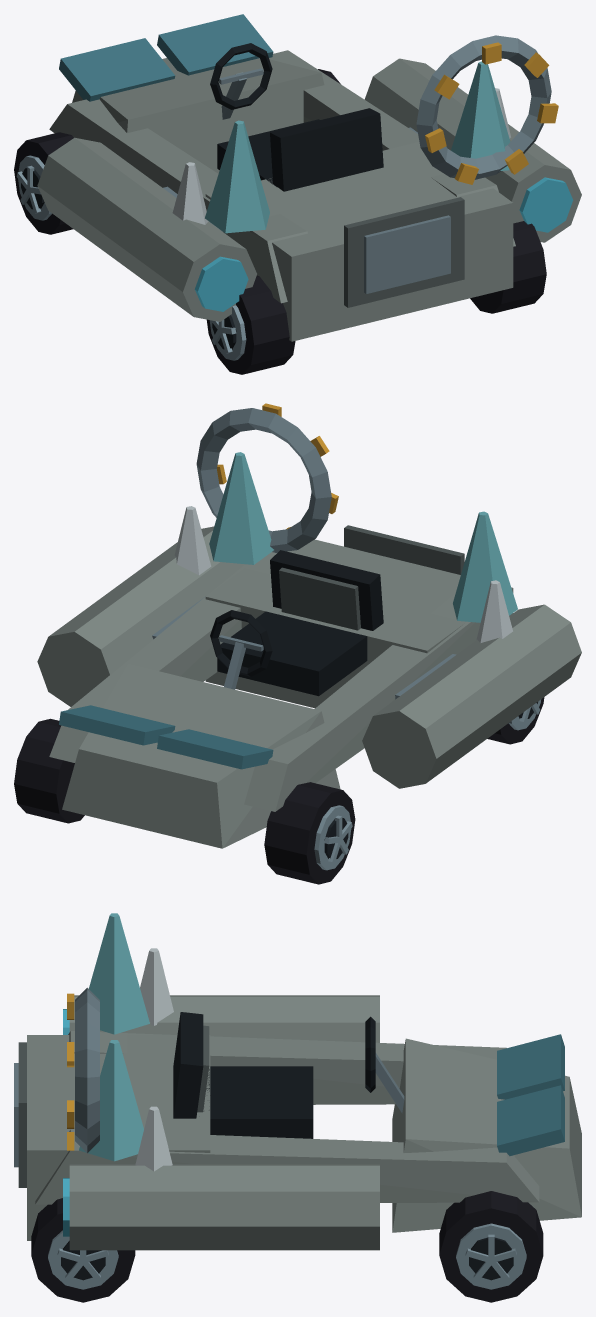
The model's file is kart.glb.
The picture shows the model from 3 angles, top to bottom: view 1: azimuth 30°, elevation 25°; view 2: azimuth 150°, elevation 25°; view 3: azimuth 270°, elevation 25°; orthographic projection. The views are drawn at different scales.
Parts seen in each view (by area): view 1: identity-puddle-jumper-jumper-barrel-hull-and-retractable-po, identity-puddle-jumper-driver-cockpit, identity-puddle-jumper-motif-crystals, identity-puddle-jumper-motif-gate-ring, wheel-rear-left, wheel-rear-right, wheel-front-left; view 2: identity-puddle-jumper-jumper-barrel-hull-and-retractable-po, identity-puddle-jumper-driver-cockpit, identity-puddle-jumper-motif-crystals, wheel-front-left, identity-puddle-jumper-motif-gate-ring, wheel-front-right, wheel-rear-left; view 3: identity-puddle-jumper-jumper-barrel-hull-and-retractable-po, identity-puddle-jumper-driver-cockpit, identity-puddle-jumper-motif-crystals, wheel-front-right, wheel-rear-right, identity-puddle-jumper-motif-gate-ring.
Part boxes in pixels (bbox=[...]): identity-puddle-jumper-jumper-barrel-hull-and-retractable-po: bbox=[37, 14, 581, 341]; identity-puddle-jumper-driver-cockpit: bbox=[210, 43, 383, 191]; identity-puddle-jumper-motif-crystals: bbox=[172, 61, 510, 233]; identity-puddle-jumper-motif-gate-ring: bbox=[416, 35, 558, 184]; wheel-rear-left: bbox=[206, 275, 295, 374]; wheel-rear-right: bbox=[470, 221, 546, 313]; wheel-front-left: bbox=[14, 132, 73, 234]; identity-puddle-jumper-jumper-barrel-hull-and-retractable-po: bbox=[37, 525, 581, 848]; identity-puddle-jumper-driver-cockpit: bbox=[210, 550, 383, 696]; identity-puddle-jumper-motif-crystals: bbox=[174, 452, 517, 642]; wheel-front-left: bbox=[264, 782, 355, 884]; identity-puddle-jumper-motif-gate-ring: bbox=[196, 403, 338, 552]; wheel-front-right: bbox=[14, 718, 84, 823]; wheel-rear-left: bbox=[487, 697, 544, 744]; identity-puddle-jumper-jumper-barrel-hull-and-retractable-po: bbox=[14, 995, 581, 1250]; identity-puddle-jumper-driver-cockpit: bbox=[173, 1012, 404, 1138]; identity-puddle-jumper-motif-crystals: bbox=[79, 913, 173, 1171]; wheel-front-right: bbox=[439, 1191, 543, 1302]; wheel-rear-right: bbox=[31, 1198, 135, 1302]; identity-puddle-jumper-motif-gate-ring: bbox=[67, 987, 99, 1153].
Bounding box in the file's own units: 2.36 × 1.52 × 2.73.
